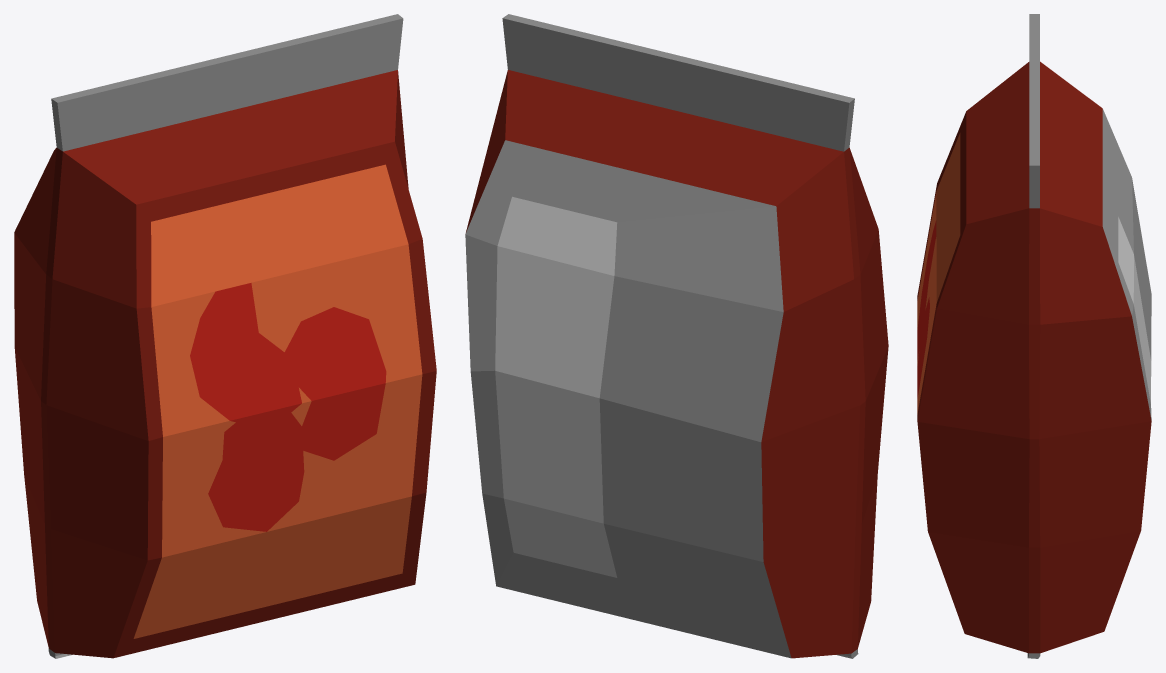
Rendered from Ketchup Potato Chips Large.fbx.
3 renders of one model, left to right at view 1: azimuth 30°, elevation 25°; view 2: azimuth 150°, elevation 25°; view 3: azimuth 270°, elevation 25°, orthographic. The views are drawn at different scales.
Visible parts, largest first — view 1: Ketchup Potato Chips Large; view 2: Ketchup Potato Chips Large; view 3: Ketchup Potato Chips Large.
Boxes of the visible parts, left/top/right/bottom form: Ketchup Potato Chips Large: left=14, top=14, right=436, bottom=658; Ketchup Potato Chips Large: left=465, top=14, right=888, bottom=658; Ketchup Potato Chips Large: left=917, top=14, right=1151, bottom=658.
Size of the model in its own units: 38.31 by 55.33 by 23.57.
1 material, 1 textured.
